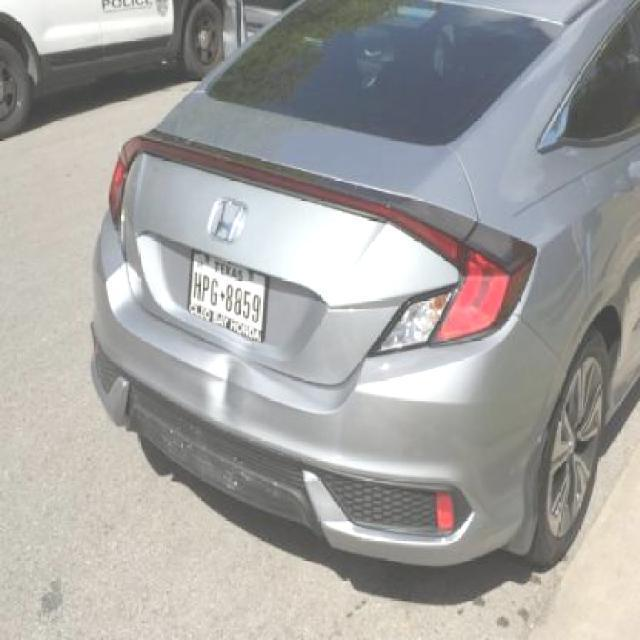minor: (194, 355, 251, 442)
